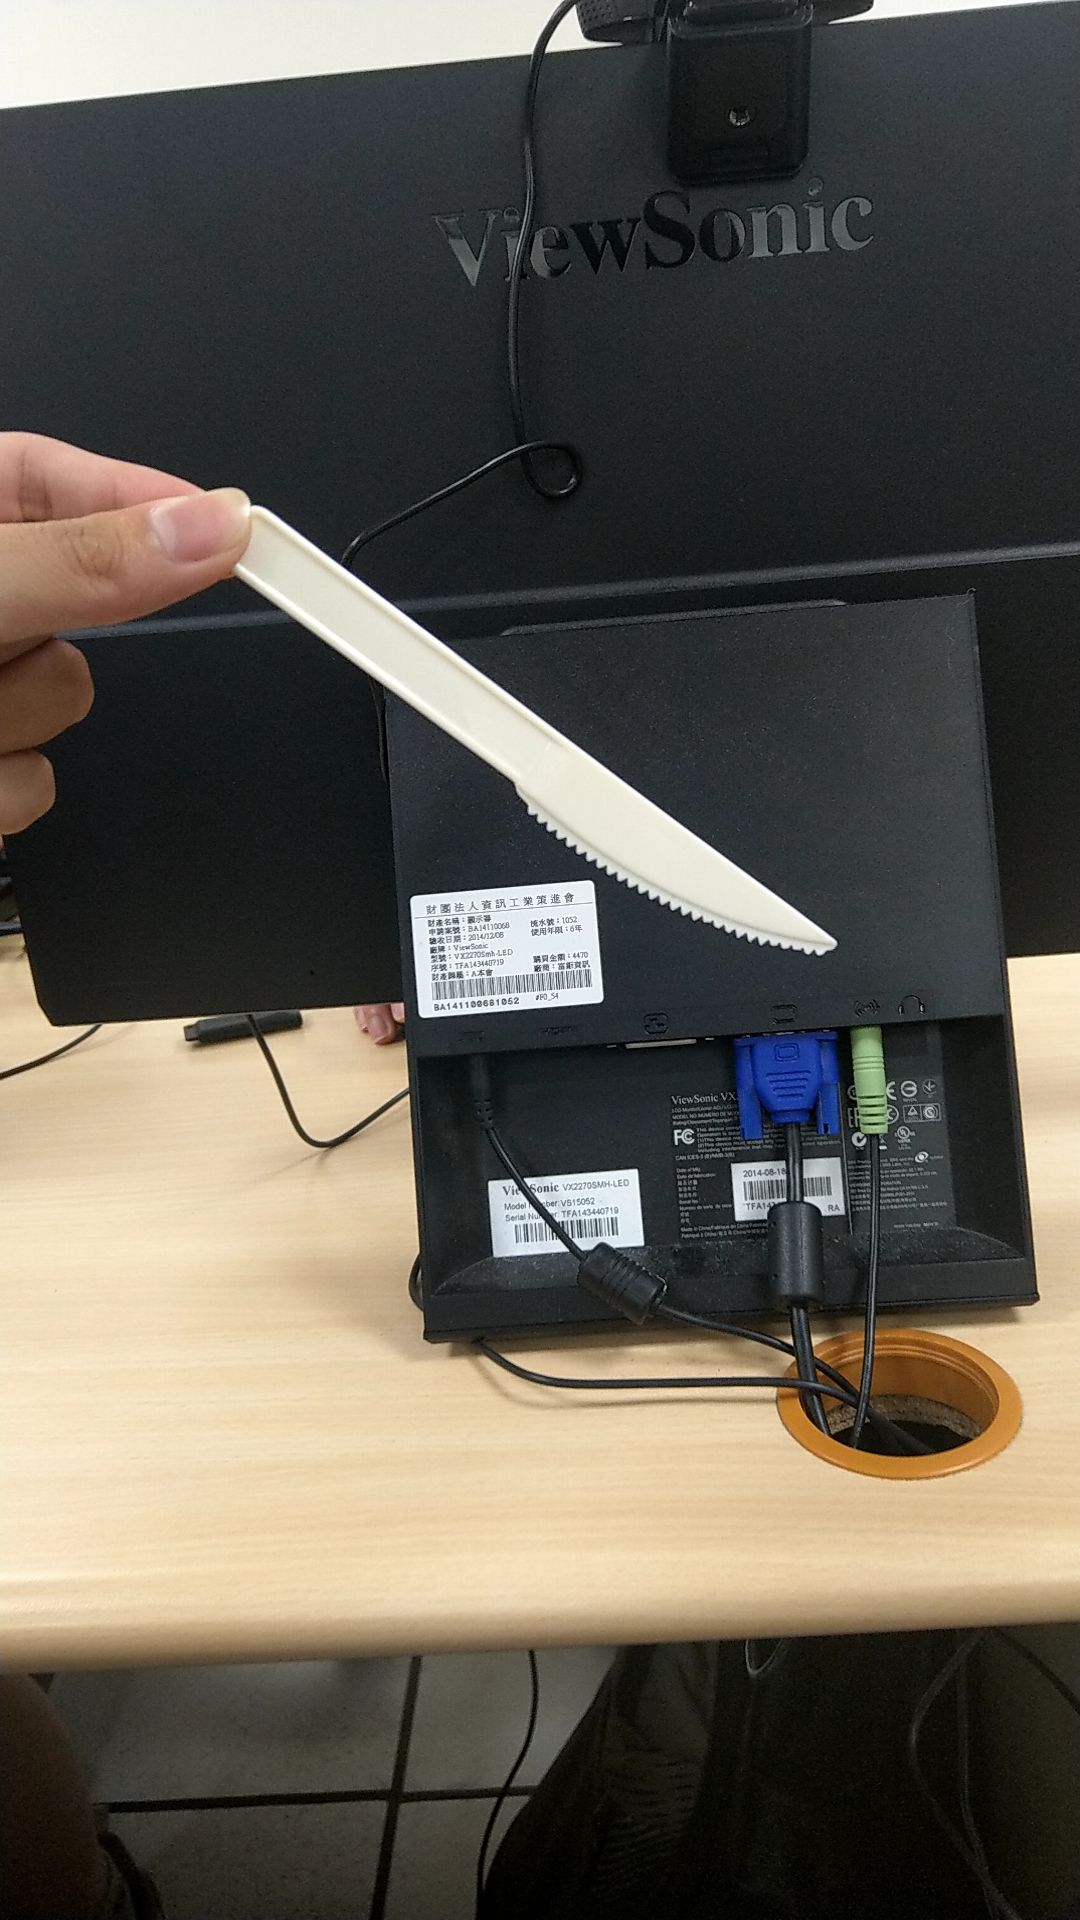knife: (222, 472, 861, 953)
